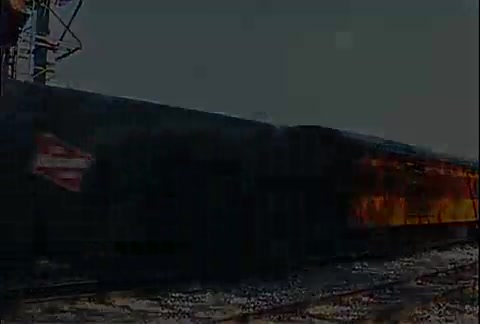train: (1, 2, 479, 284)
